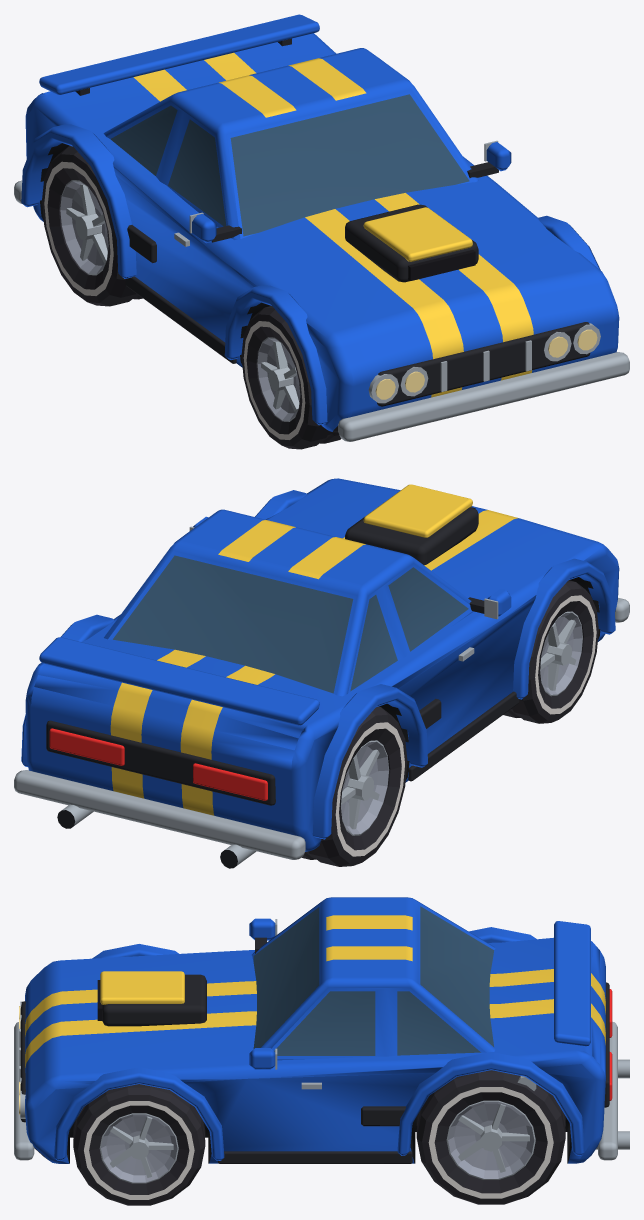
The model's file is vuena-muscle-blue.glb.
3 views of the same model, one above another, from view 1: azimuth 30°, elevation 25°; view 2: azimuth 150°, elevation 25°; view 3: azimuth 270°, elevation 25° (orthographic). The views are drawn at different scales.
Parts seen in each view (by area): view 1: muscle_body, wheel_RR, wheel_FR; view 2: muscle_body, wheel_RR, wheel_FR; view 3: muscle_body, wheel_RL, wheel_FL.
Boxes of the visible parts, left/top/right/bottom form: muscle_body: left=14, top=14, right=629, bottom=441; wheel_RR: left=42, top=146, right=142, bottom=306; wheel_FR: left=241, top=306, right=341, bottom=449; muscle_body: left=14, top=478, right=629, bottom=868; wheel_RR: left=301, top=706, right=407, bottom=866; wheel_FR: left=503, top=580, right=598, bottom=723; muscle_body: left=14, top=897, right=629, bottom=1163; wheel_RL: left=416, top=1070, right=565, bottom=1204; wheel_FL: left=73, top=1084, right=205, bottom=1205.
Size of the model in its own units: 1.91 by 1.35 by 3.64.
1 material, 1 textured.
